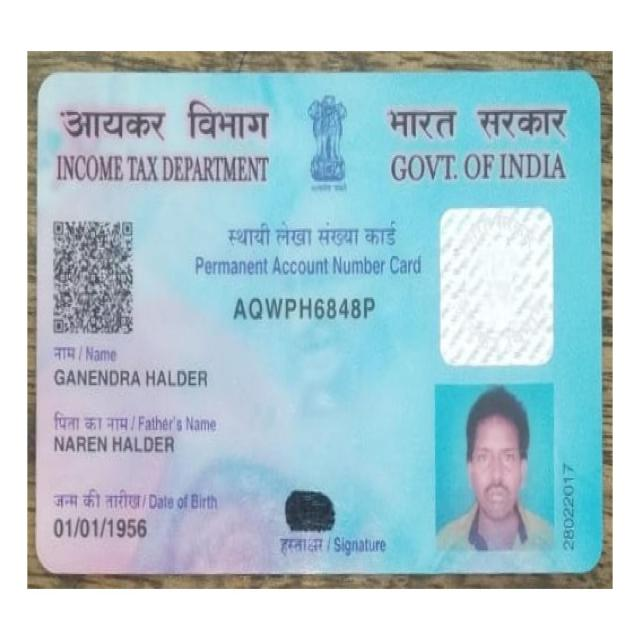pan_card: (42, 76, 599, 569)
